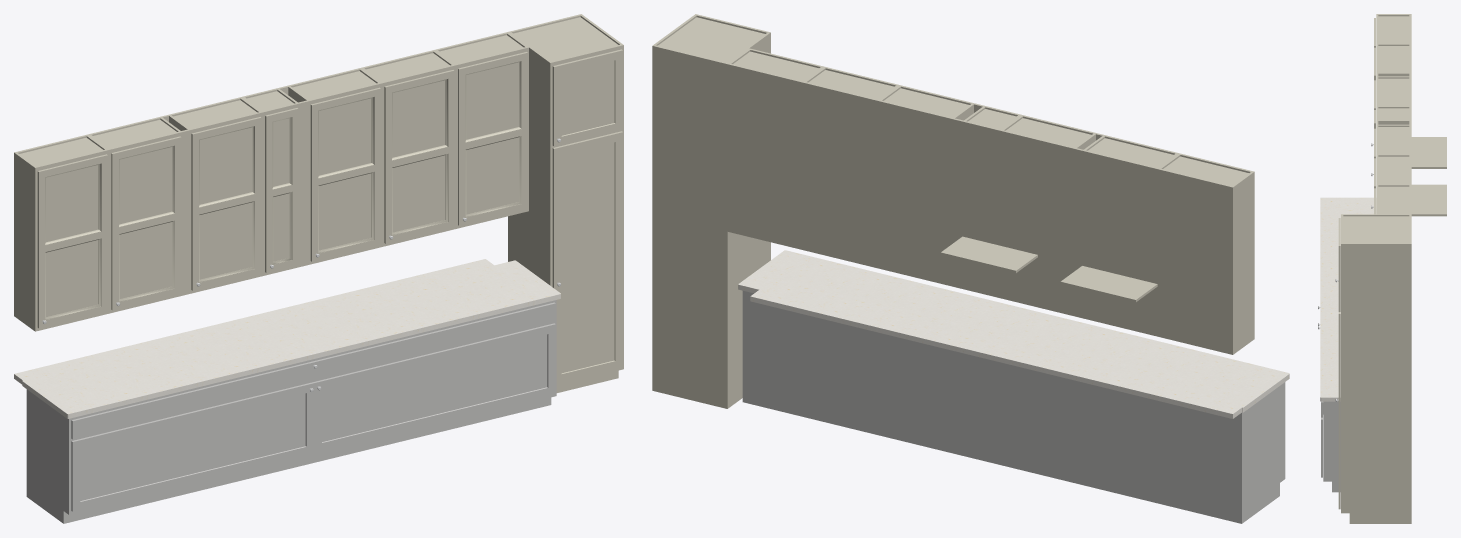
Rendered from kitchen-cabinets.glb.
3 views of the same model, side by side, from view 1: azimuth 30°, elevation 25°; view 2: azimuth 150°, elevation 25°; view 3: azimuth 270°, elevation 25° (orthographic). The views are drawn at different scales.
Parts seen in each view (by area): view 1: geo_75-node, geo_44-node, geo_76-node; view 2: geo_75-node, geo_44-node, geo_76-node; view 3: geo_75-node, geo_76-node, geo_44-node.
Part boxes in pixels (<box>): geo_75-node: <box>14,14,623,392</box>; geo_44-node: <box>26,300,556,523</box>; geo_76-node: <box>14,259,560,418</box>; geo_75-node: <box>652,14,1254,408</box>; geo_44-node: <box>742,291,1285,523</box>; geo_76-node: <box>738,250,1289,418</box>; geo_75-node: <box>1338,14,1446,523</box>; geo_76-node: <box>1320,197,1376,401</box>; geo_44-node: <box>1321,401,1340,492</box>.
Bounding box in the file's own units: 4.71 × 2.67 × 1.11.
4 materials, 1 textured.
